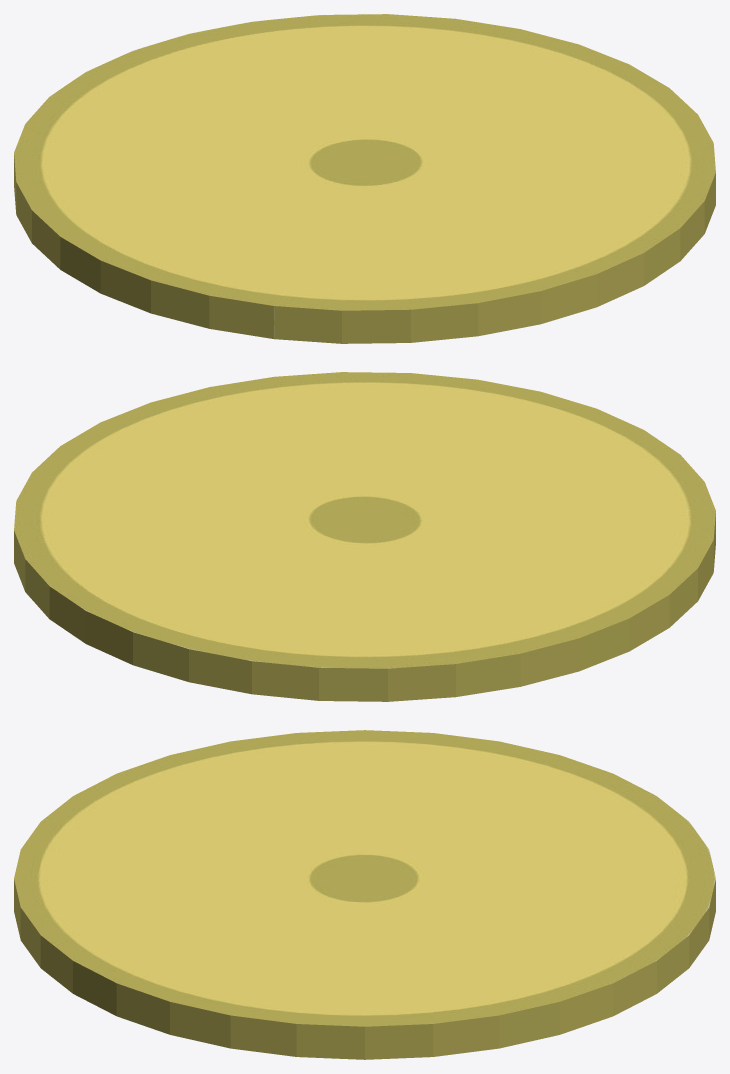
Rendered from shield_01_gold.glb.
3 renders of one model, top to bottom at view 1: azimuth 30°, elevation 25°; view 2: azimuth 150°, elevation 25°; view 3: azimuth 270°, elevation 25°, orthographic.
Visible parts, largest first — view 1: Cylinder; view 2: Cylinder; view 3: Cylinder.
Part boxes in pixels (x1=…): Cylinder: x1=14, y1=14, x2=715, y2=343; Cylinder: x1=14, y1=372, x2=715, y2=701; Cylinder: x1=14, y1=730, x2=715, y2=1059.
Bounding box in the file's own units: 1 × 0.052 × 1.
Materials: 1 (1 with a texture image).
